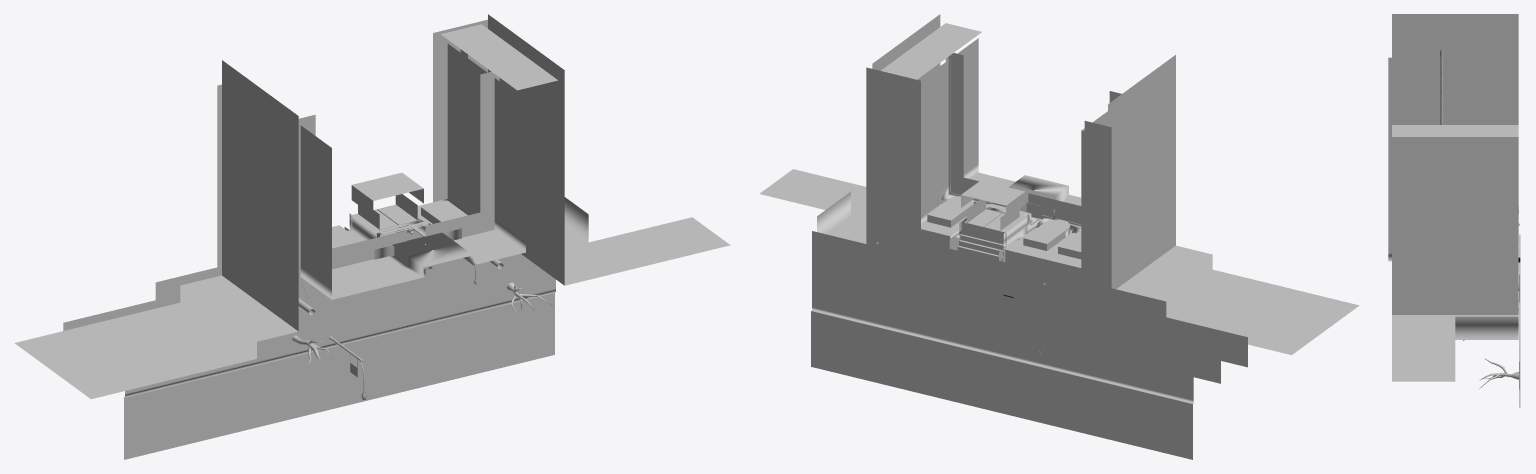
The model's file is iwatodai_streets.obj.
3 renders of one model, left to right at view 1: azimuth 30°, elevation 25°; view 2: azimuth 150°, elevation 25°; view 3: azimuth 270°, elevation 25°, orthographic. The views are drawn at different scales.
Visible parts, largest first — view 1: Atomic34_meshId47_name, Atomic11.003_meshId18_name, Atomic34.001_meshId48_name, Atomic1_meshId5_name, Atomic11.004_meshId19_name, Atomic33_meshId46_name, Atomic0.002_meshId2_name, Atomic11.001_meshId16_name, Atomic11_meshId15_name, Atomic0.004_meshId4_name, Atomic0.003_meshId3_name, Atomic22_meshId35_name (+1 smaller); view 2: Atomic11.003_meshId18_name, Atomic34_meshId47_name, Atomic11.004_meshId19_name, Atomic11_meshId15_name, Atomic11.001_meshId16_name, Atomic34.001_meshId48_name, Atomic0.002_meshId2_name, Atomic1_meshId5_name, Atomic33_meshId46_name, Atomic0.003_meshId3_name, Atomic2_meshId6_name, Atomic0.004_meshId4_name (+3 smaller); view 3: Atomic34.001_meshId48_name, Atomic34_meshId47_name, Atomic0.002_meshId2_name, Atomic1_meshId5_name, Atomic33_meshId46_name, Atomic11.003_meshId18_name, Atomic6_meshId10_name.
Part boxes in pixels (box(x1,y1,x2,y2)): Atomic34_meshId47_name: box(14, 60, 298, 399); Atomic11.003_meshId18_name: box(124, 280, 555, 459); Atomic34.001_meshId48_name: box(441, 14, 730, 285); Atomic1_meshId5_name: box(300, 78, 525, 299); Atomic11.004_meshId19_name: box(125, 254, 555, 393); Atomic33_meshId46_name: box(298, 71, 499, 281); Atomic0.002_meshId2_name: box(447, 44, 486, 213); Atomic11.001_meshId16_name: box(63, 18, 494, 330); Atomic11_meshId15_name: box(247, 23, 475, 240); Atomic0.004_meshId4_name: box(351, 172, 429, 235); Atomic0.003_meshId3_name: box(332, 195, 472, 248); Atomic22_meshId35_name: box(281, 273, 522, 352); Atomic11.003_meshId18_name: box(811, 242, 1247, 459); Atomic34_meshId47_name: box(1108, 55, 1359, 355); Atomic11.004_meshId19_name: box(812, 246, 1247, 399); Atomic11_meshId15_name: box(883, 71, 1101, 312); Atomic11.001_meshId16_name: box(812, 67, 1247, 348); Atomic34.001_meshId48_name: box(759, 14, 981, 243); Atomic0.002_meshId2_name: box(921, 60, 1107, 224); Atomic1_meshId5_name: box(950, 38, 1081, 224); Atomic33_meshId46_name: box(945, 53, 1121, 226); Atomic0.003_meshId3_name: box(921, 199, 1081, 267); Atomic2_meshId6_name: box(921, 130, 1084, 281); Atomic0.004_meshId4_name: box(937, 180, 1079, 238); Atomic34.001_meshId48_name: box(1392, 125, 1518, 381); Atomic34_meshId47_name: box(1392, 14, 1518, 124); Atomic0.002_meshId2_name: box(1444, 57, 1517, 124); Atomic1_meshId5_name: box(1388, 57, 1440, 261); Atomic33_meshId46_name: box(1439, 50, 1444, 124); Atomic11.003_meshId18_name: box(1519, 234, 1520, 407); Atomic6_meshId10_name: box(1479, 358, 1518, 388).
Bounding box in the file's own units: 5052 × 2847 × 1105.
